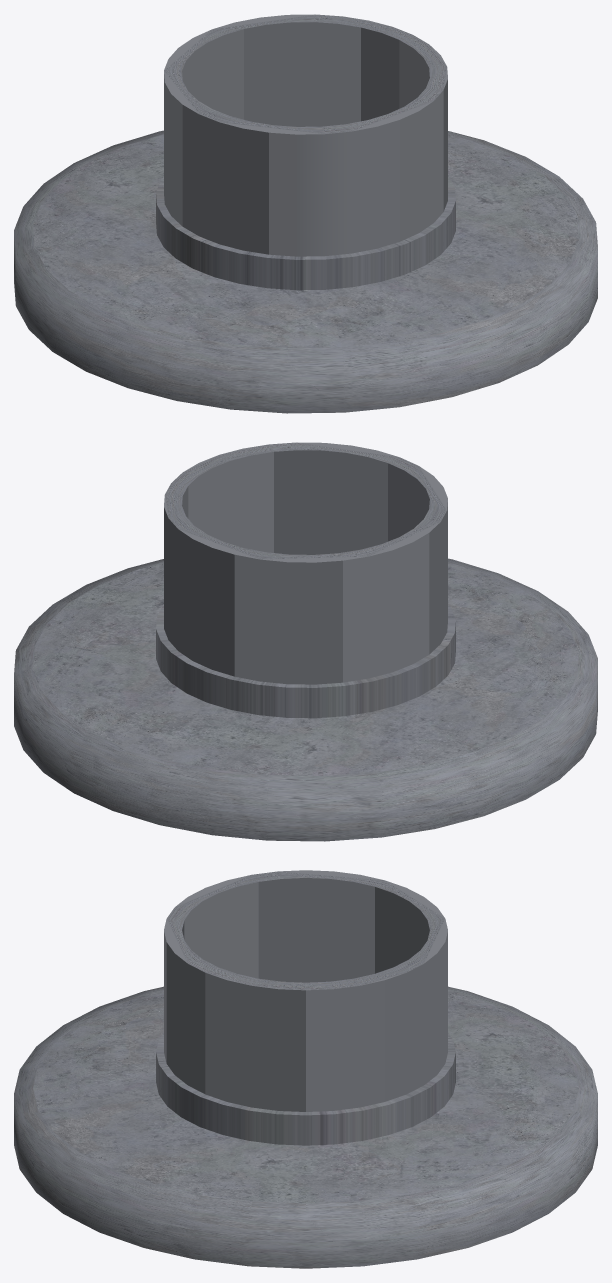
Rendered from LampHolder.gltf.
3 renders of one model, top to bottom at view 1: azimuth 30°, elevation 25°; view 2: azimuth 150°, elevation 25°; view 3: azimuth 270°, elevation 25°, orthographic.
Visible parts, largest first — view 1: Cylinder.004; view 2: Cylinder.004; view 3: Cylinder.004.
Boxes of the visible parts, x1,y1,x2,y2 form: Cylinder.004: (14, 14, 597, 413); Cylinder.004: (14, 442, 597, 841); Cylinder.004: (14, 870, 597, 1268).
Bounding box in the file's own units: 1.14 × 0.4634 × 1.14.
Materials: 1 (1 with a texture image).
